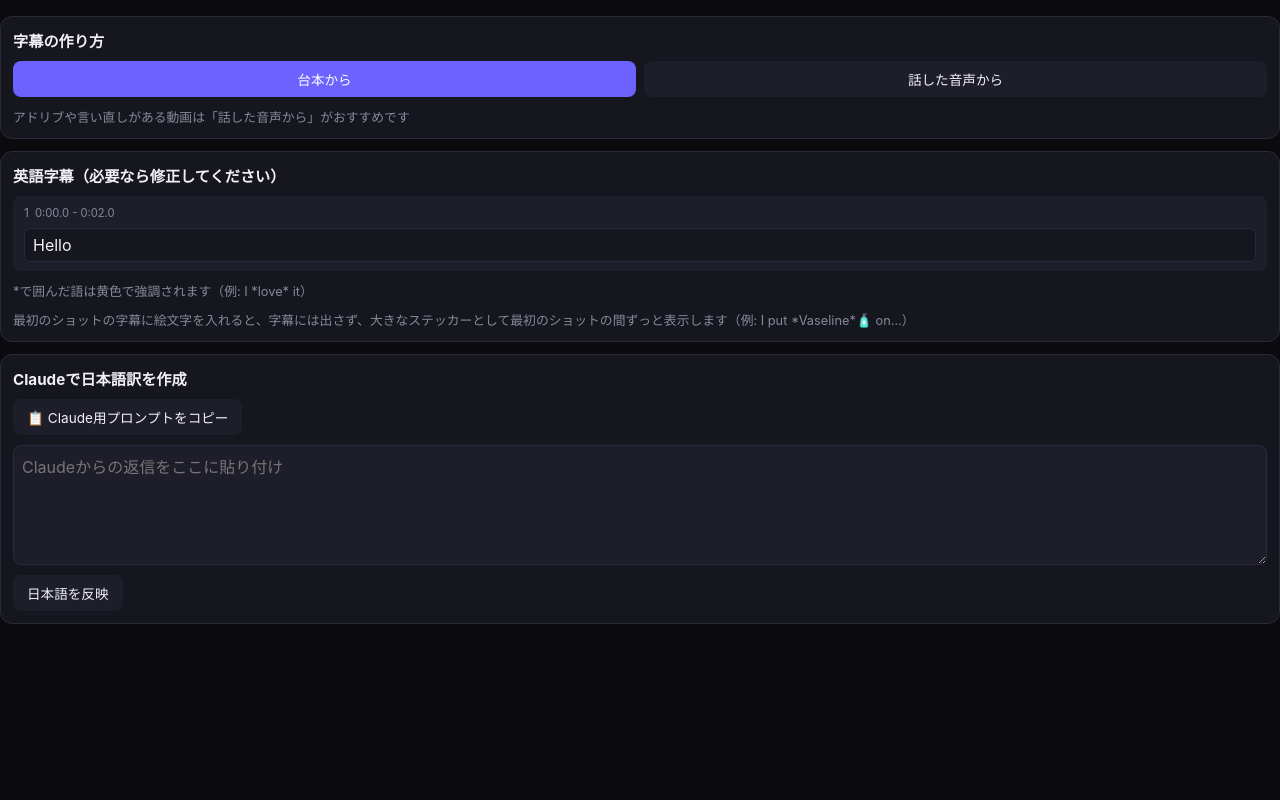
Test: SubtitleWorkflow subtitles from speech › starts from the script, and replaces it with what was said when asked
This screenshot has width=1280, height=800.
Expected: the field showing "Hello" is shown, [24,228,1256,262]
Click the button "話した音声から".
click(956, 79)  # box [644,61,1267,97]
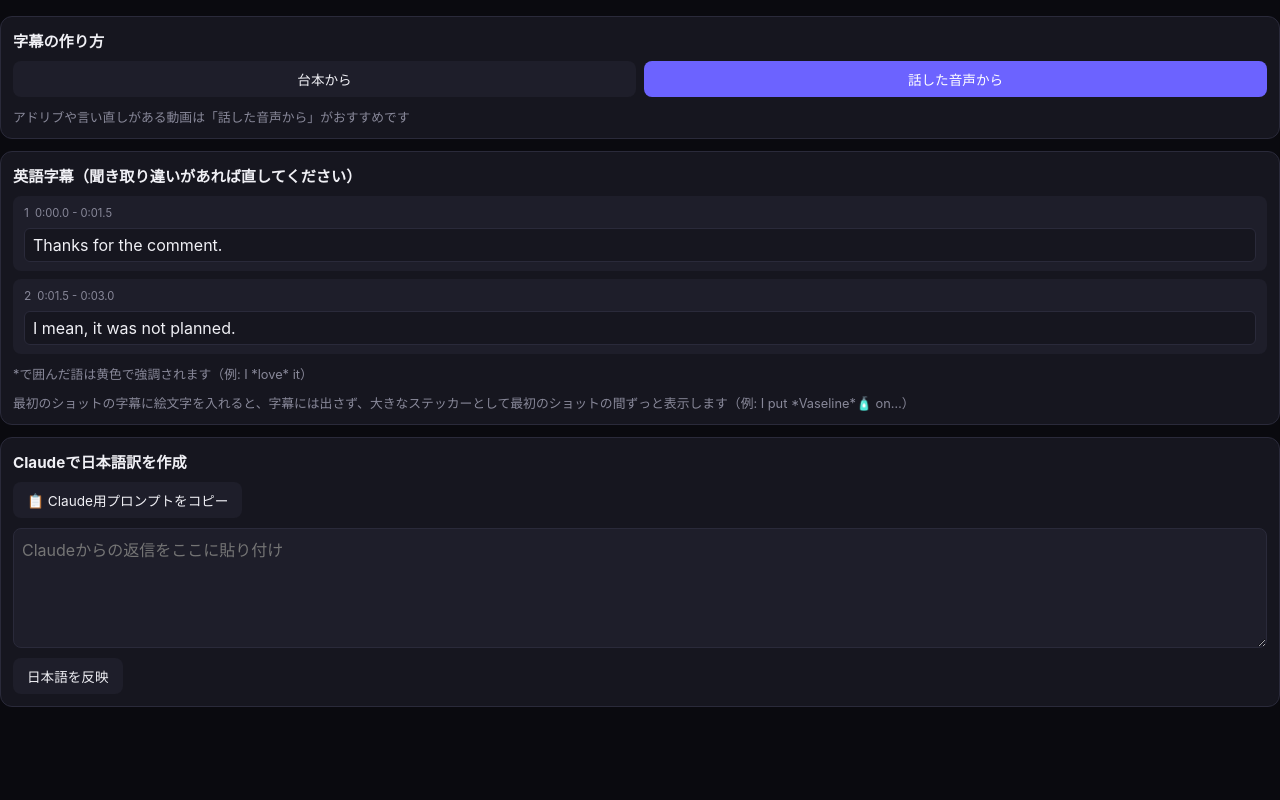
Expected: the field showing "Hello" is not shown
Expected: the field showing "I mean, it was not planned." is shown, [24,311,1256,345]
Expected: the text "英語字幕（聞き取り違いがあれば直してください）" is shown, [13,167,361,186]
